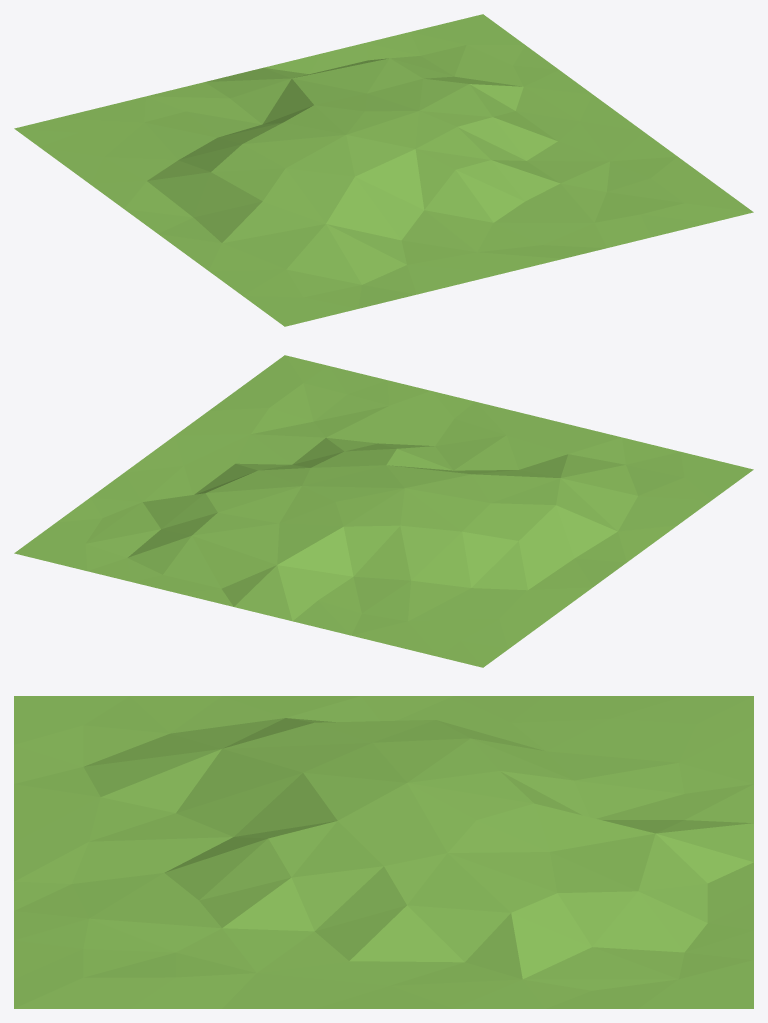
File: MT_Terrain_S_c_11.fbx
3 views of the same model, one above another, from view 1: azimuth 30°, elevation 25°; view 2: azimuth 150°, elevation 25°; view 3: azimuth 270°, elevation 25° (orthographic). The views are drawn at different scales.
Visible parts, largest first — view 1: MT_Terrain_S_c_11; view 2: MT_Terrain_S_c_11; view 3: MT_Terrain_S_c_11.
Boxes of the visible parts, box(x1,y1,x2,y2) form: MT_Terrain_S_c_11: box(14, 14, 753, 326); MT_Terrain_S_c_11: box(14, 355, 753, 667); MT_Terrain_S_c_11: box(14, 696, 753, 1008).
Bounding box in the file's own units: 2500 × 195 × 2500.
